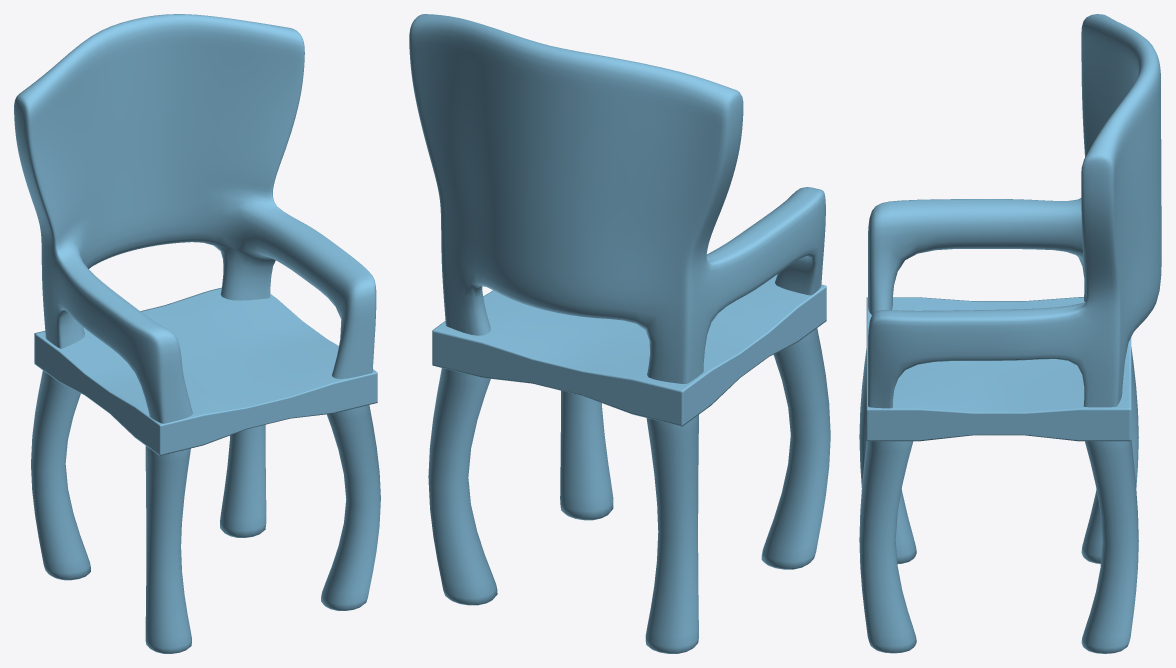
3 views of the same model, side by side, from view 1: azimuth 30°, elevation 25°; view 2: azimuth 150°, elevation 25°; view 3: azimuth 270°, elevation 25° (orthographic). The views are drawn at different scales.
Parts seen in each view (by area): view 1: Object_2; view 2: Object_2; view 3: Object_2.
Part boxes in pixels (x1=…): Object_2: x1=14, y1=14, x2=380, y2=653; Object_2: x1=409, y1=14, x2=830, y2=653; Object_2: x1=859, y1=14, x2=1161, y2=653.
Bounding box in the file's own units: 1.19 × 2.09 × 1.05.
